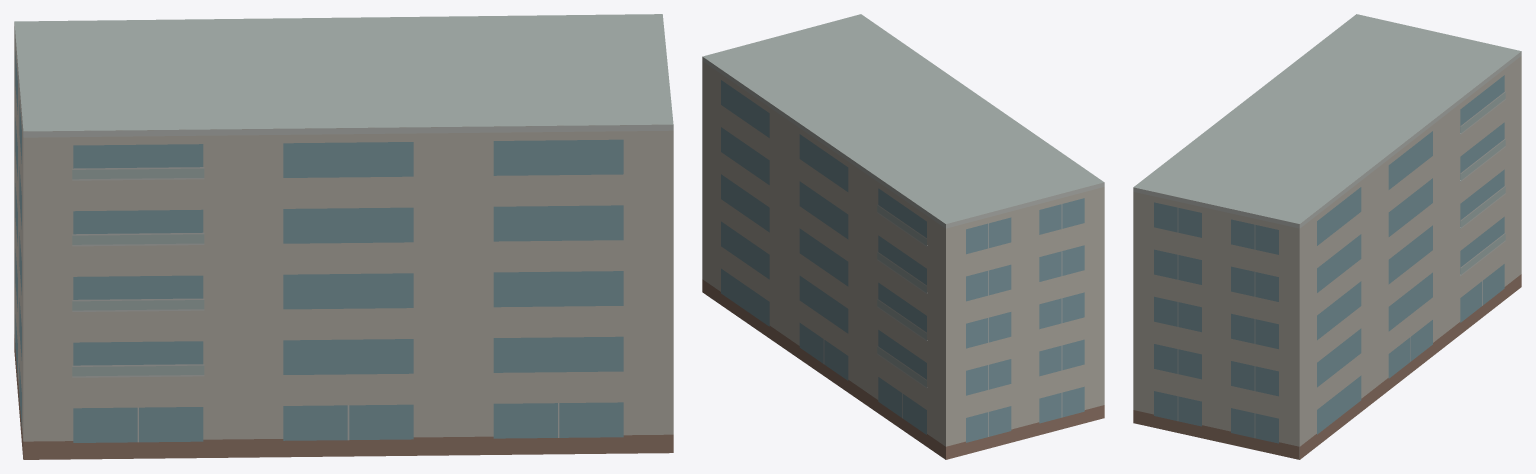
File: survey-upis-32657512.glb
The picture shows the model from 3 angles, left to right: view 1: azimuth 30°, elevation 25°; view 2: azimuth 150°, elevation 25°; view 3: azimuth 270°, elevation 25°; orthographic projection. The views are drawn at different scales.
Parts seen in each view (by area): view 1: survey-upis-32657512.tmp; view 2: survey-upis-32657512.tmp; view 3: survey-upis-32657512.tmp.
Boxes of the visible parts, left/top/right/bottom form: survey-upis-32657512.tmp: left=14, top=14, right=673, bottom=459; survey-upis-32657512.tmp: left=702, top=14, right=1104, bottom=459; survey-upis-32657512.tmp: left=1133, top=14, right=1521, bottom=459.
Bounding box in the file's own units: 24.66 × 12.9 × 19.27.
